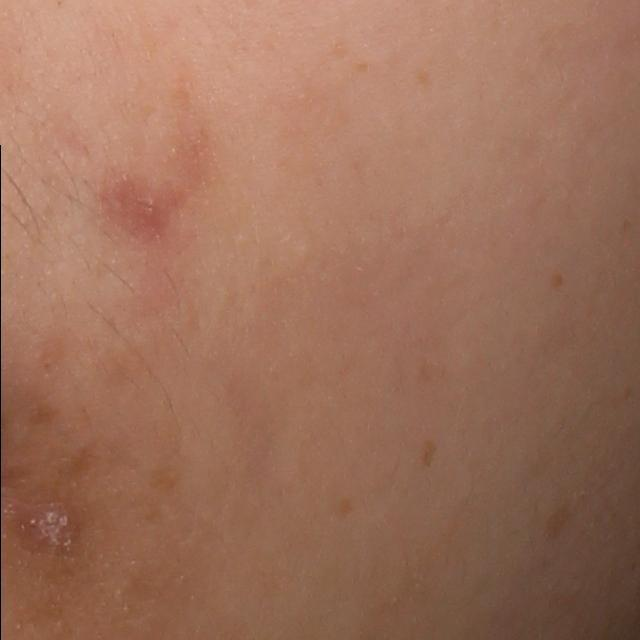melasma: (540, 495, 572, 545), (417, 439, 436, 469), (416, 68, 432, 87), (548, 270, 565, 287), (353, 61, 373, 74)
